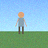person: (15, 12, 27, 34)
